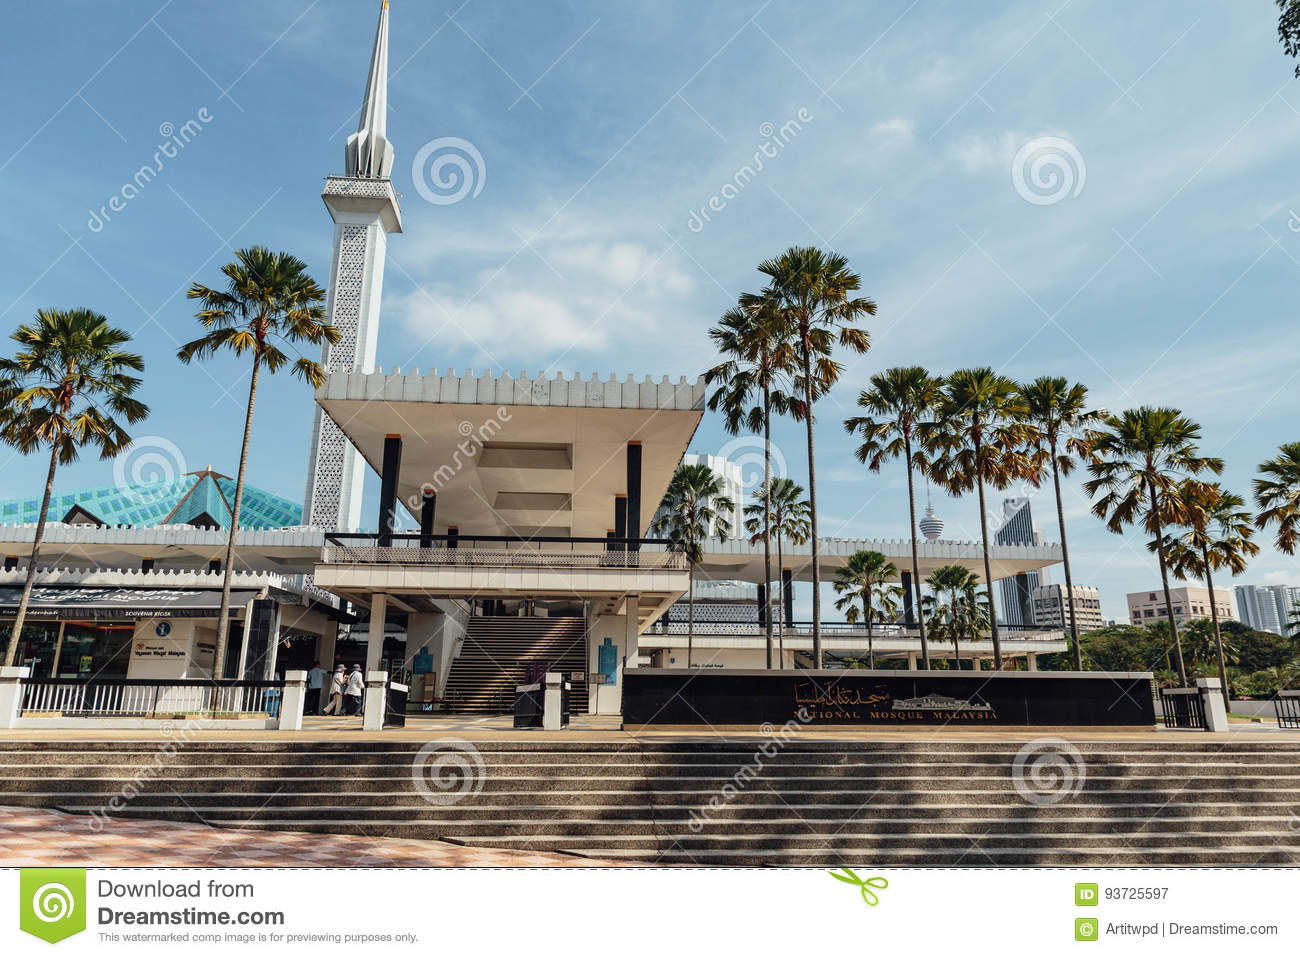Mosque: (298, 27, 406, 522)
